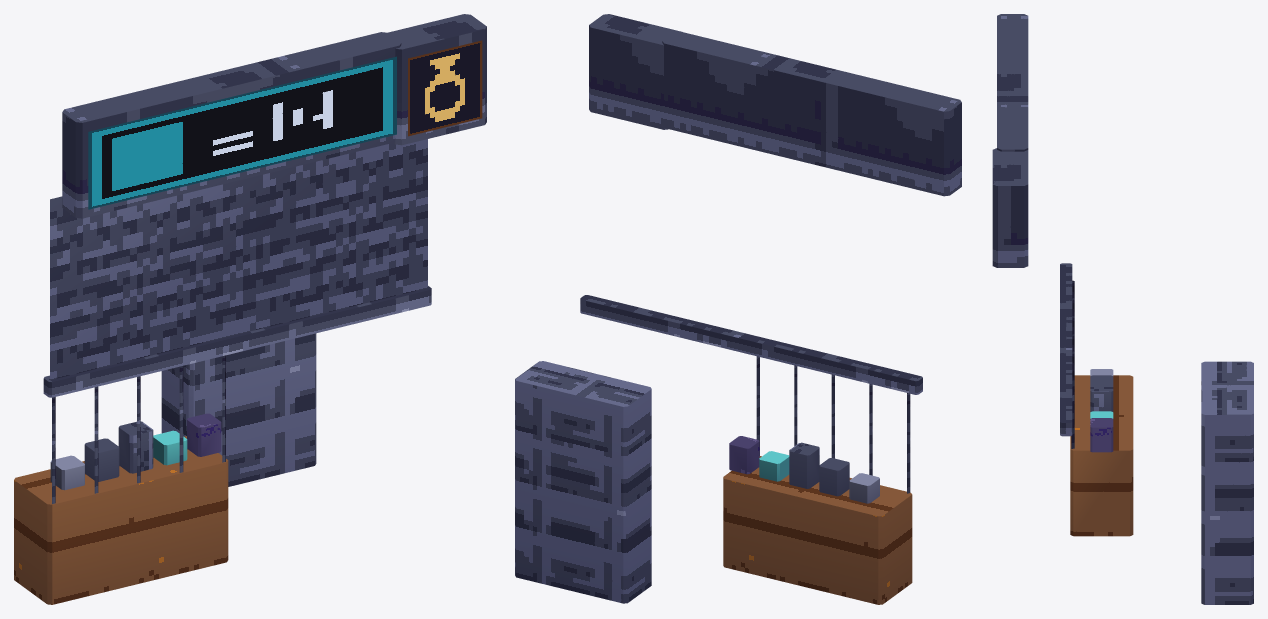
Rendered from cysign.pawn.glb.
The picture shows the model from 3 angles, left to right: view 1: azimuth 30°, elevation 25°; view 2: azimuth 150°, elevation 25°; view 3: azimuth 270°, elevation 25°; orthographic projection. The views are drawn at different scales.
Parts seen in each view (by area): view 1: kit_card_cards, kit_front, kit_bars; view 2: kit_front, kit_bars; view 3: kit_front, kit_bars.
Part boxes in pixels (left/top/right/bottom): kit_card_cards: left=50, top=40, right=482, bottom=380; kit_front: left=14, top=14, right=486, bottom=604; kit_bars: left=52, top=355, right=225, bottom=503; kit_front: left=515, top=14, right=961, bottom=604; kit_bars: left=756, top=356, right=910, bottom=493; kit_front: left=992, top=14, right=1253, bottom=604; kit_bars: left=1071, top=280, right=1074, bottom=448.
Bounding box in the file's own units: 3.84 × 4.64 × 2.52.
12 materials, 10 textured.
